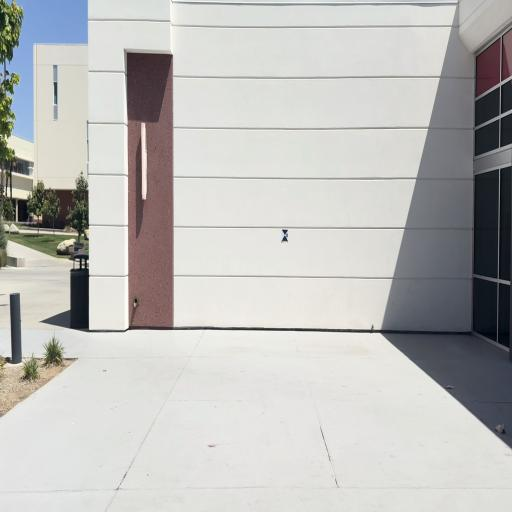target0: (282, 229, 288, 242)
